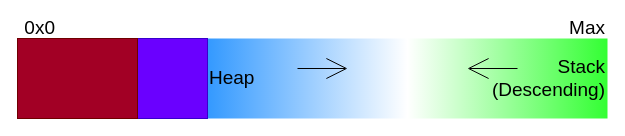
The diagram is 625 pixels wide and 136 high, and some of its shapes have lost their labels. Each missing label, with the centre of its shape:
"Code" belongs at pixel 77 78.
"Data" belongs at pixel 172 78.
